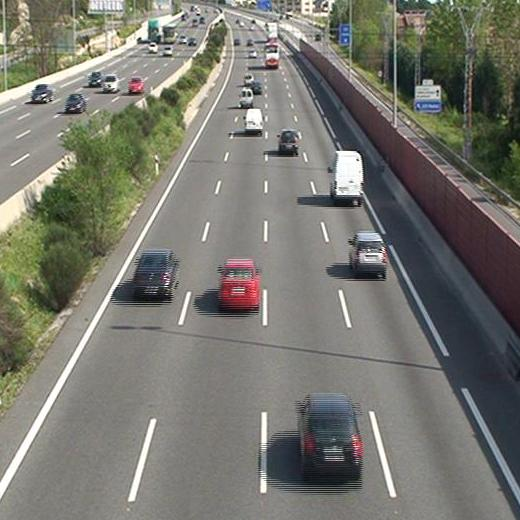bus: (265, 42, 281, 69)
car: (296, 395, 360, 477), (132, 250, 179, 297), (218, 260, 263, 309), (347, 233, 386, 276), (276, 129, 299, 154), (250, 81, 263, 95)
van: (326, 150, 364, 203), (242, 108, 264, 135), (239, 87, 253, 107)
